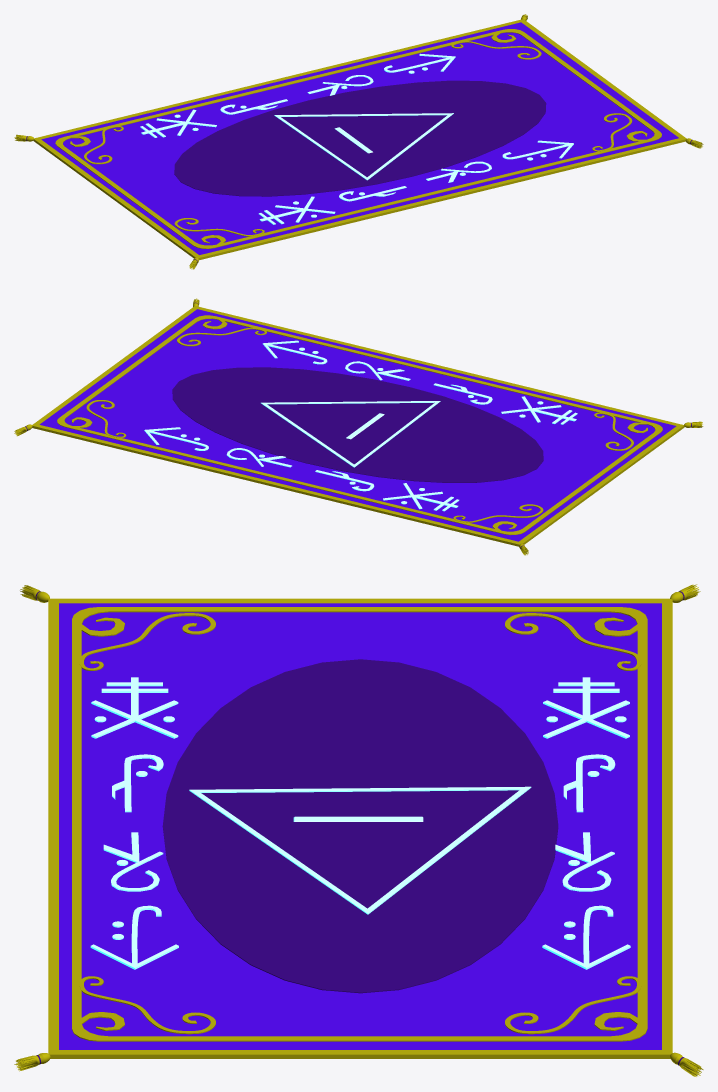
Rendered from Tappeto_powerUP.fbx.
3 renders of one model, top to bottom at view 1: azimuth 30°, elevation 25°; view 2: azimuth 150°, elevation 25°; view 3: azimuth 270°, elevation 25°, orthographic. The views are drawn at different scales.
Parts seen in each view (by area): view 1: tappeto_base; view 2: tappeto_base; view 3: tappeto_base.
Boxes of the visible parts, x1=… form: tappeto_base: x1=14, y1=14, x2=703, y2=269; tappeto_base: x1=14, y1=298, x2=703, y2=555; tappeto_base: x1=14, y1=584, x2=703, y2=1076.
Bounding box in the file's own units: 81.4 × 1.51 × 49.58.
